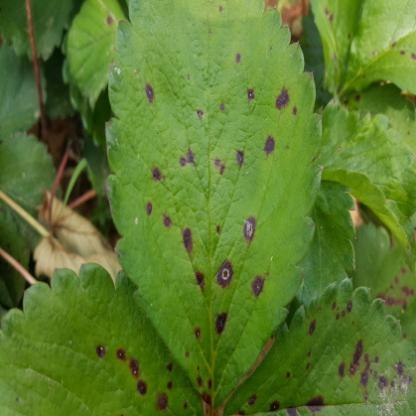Strawberry_Leaf_Spot: (104, 0, 324, 412), (0, 263, 210, 416), (217, 278, 415, 415), (318, 0, 416, 97), (345, 222, 415, 341), (66, 0, 131, 113), (338, 81, 415, 152)
